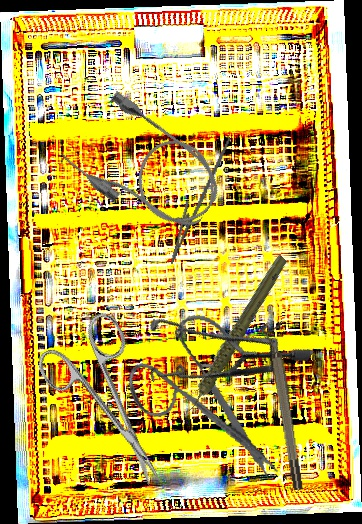Cannula: (56, 86, 235, 249)
Fixation Ring: (260, 321, 306, 492)
Handpiece: (150, 252, 316, 418)
Iris Scissors: (114, 303, 308, 484), (29, 308, 193, 507)
Needle Holder: (160, 128, 232, 270)
Speculum: (124, 265, 314, 448)
